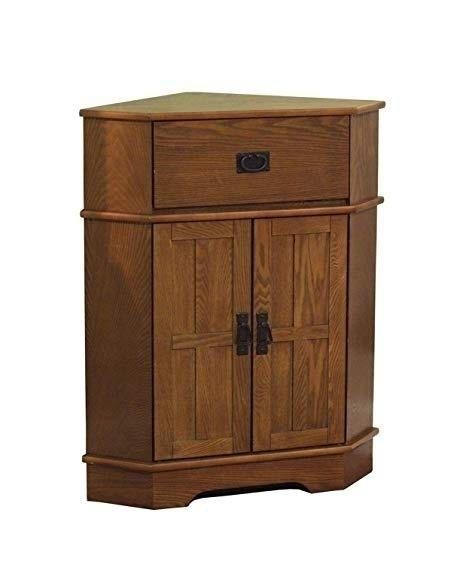cabinet_door: (155, 224, 253, 460), (255, 222, 347, 452), (159, 119, 351, 206)
handle: (234, 147, 272, 177), (258, 308, 275, 354), (236, 310, 251, 358)
